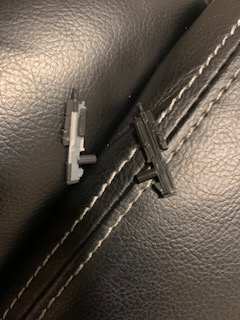rifle: (126, 99, 178, 205), (58, 86, 97, 188)
